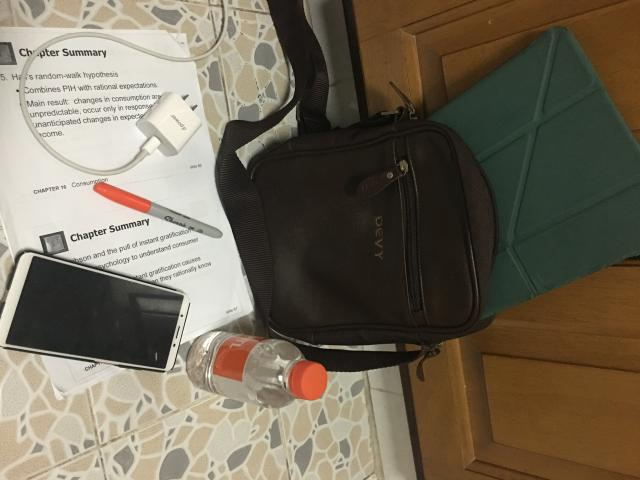Mobile phone: (0, 251, 190, 372)
Pen: (94, 182, 222, 239)
bottle: (186, 331, 328, 409)
paper: (0, 26, 255, 403)
wire: (20, 2, 229, 177)
